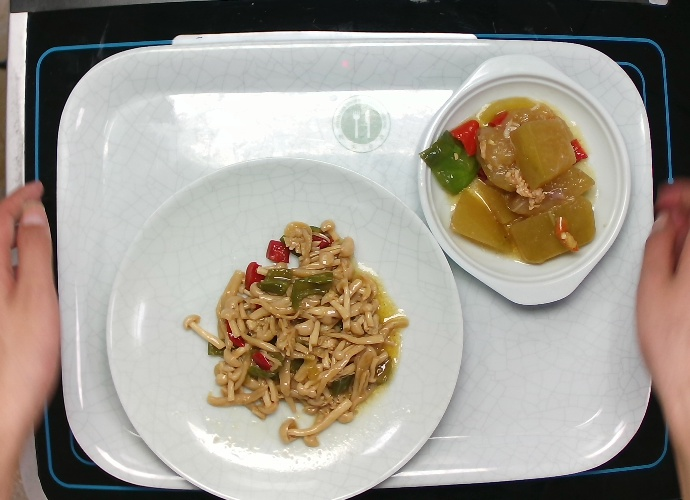JYsf-Da_Yuan_Pan: (101, 150, 470, 500)
JYsf-Shuang_Er_Pan: (412, 41, 637, 312)
